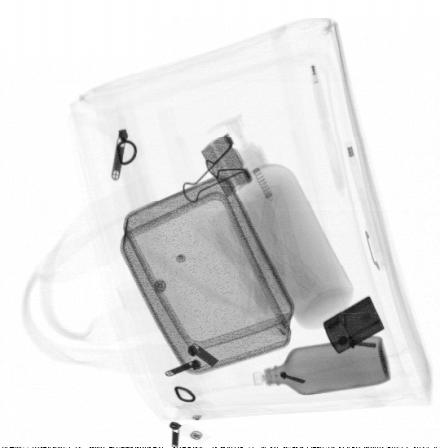Lighter: (323, 295, 386, 355)
